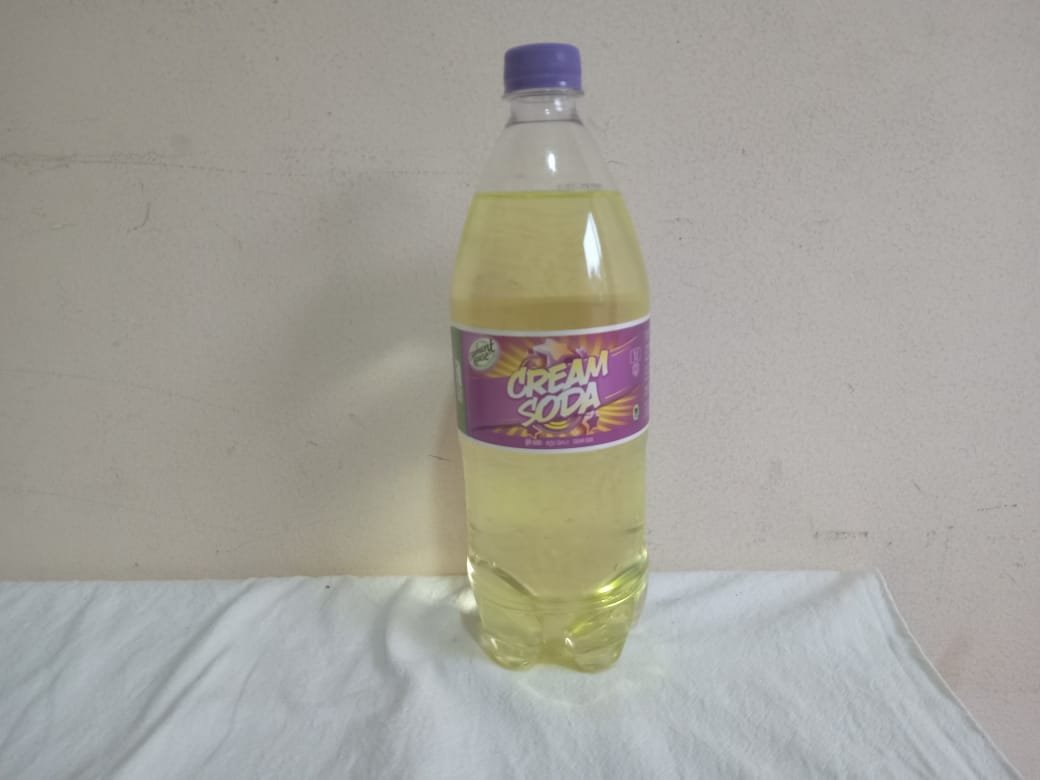M: (440, 40, 665, 681)
